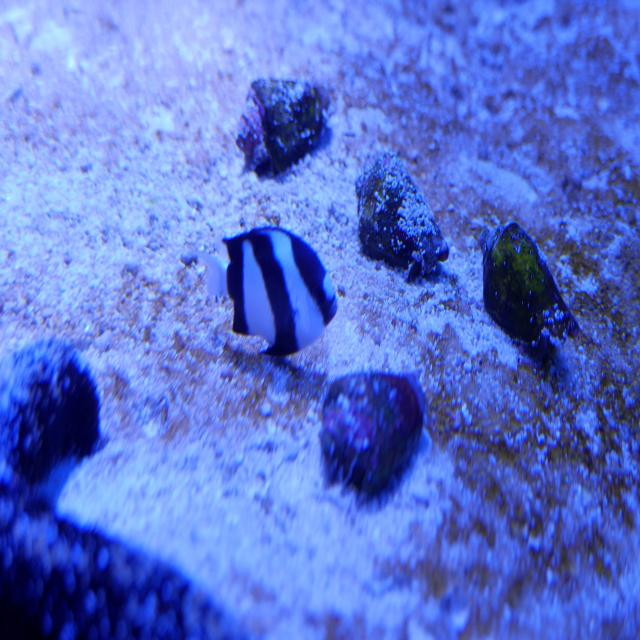ThreeStripedDamselfish: (196, 218, 342, 368)
